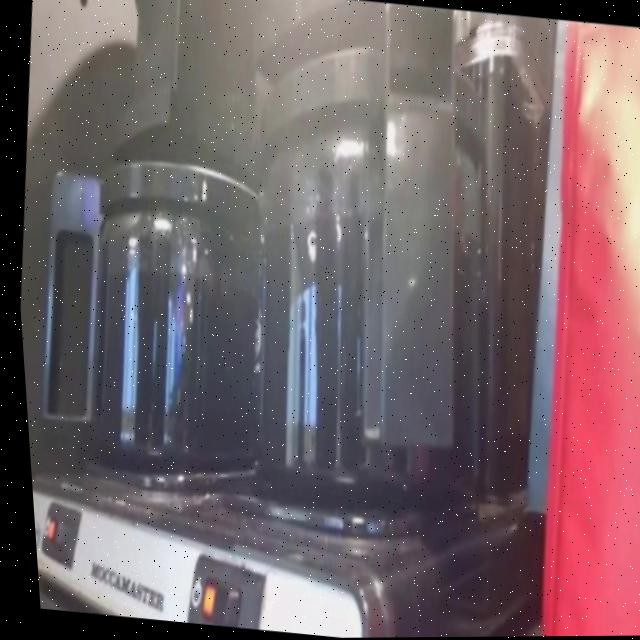coffee: (237, 166, 503, 498), (73, 218, 271, 466)
